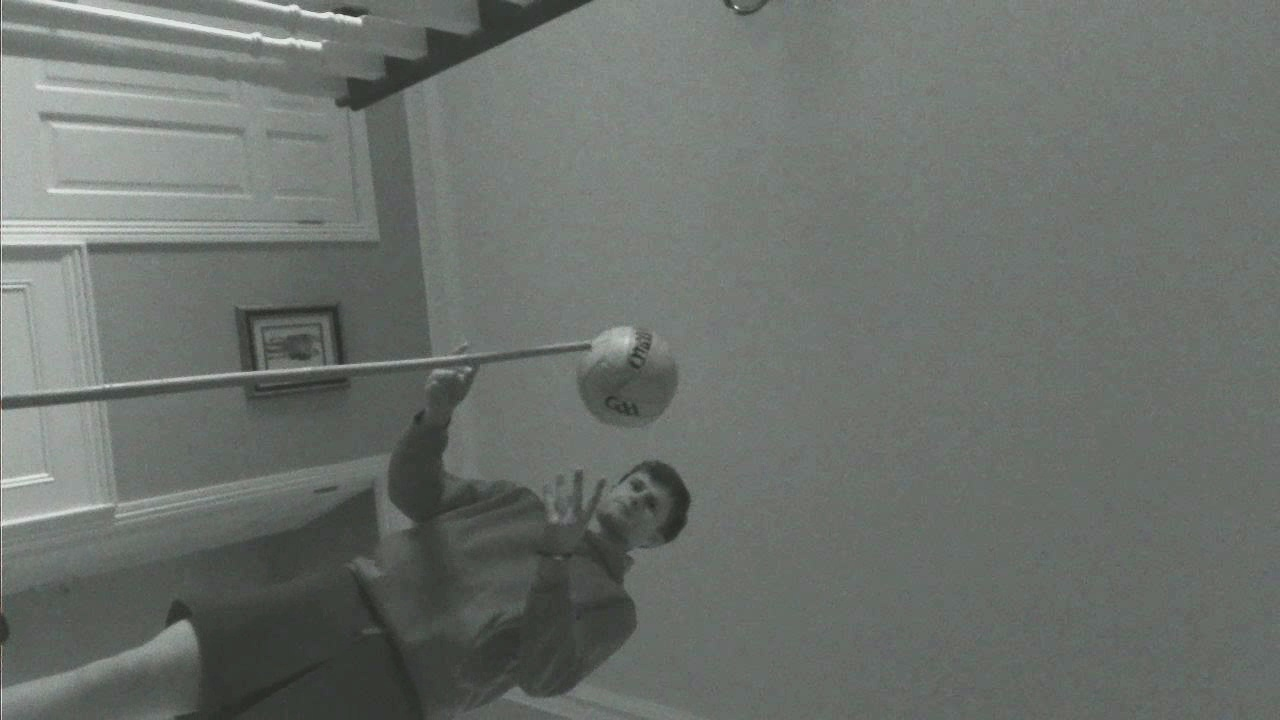Football-Spotter: (578, 326, 677, 426)
